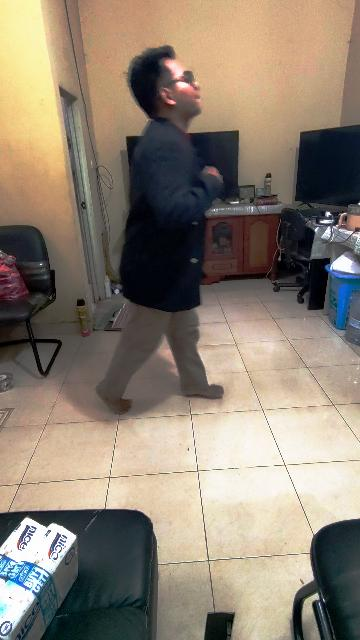berlari: (86, 44, 228, 416)
